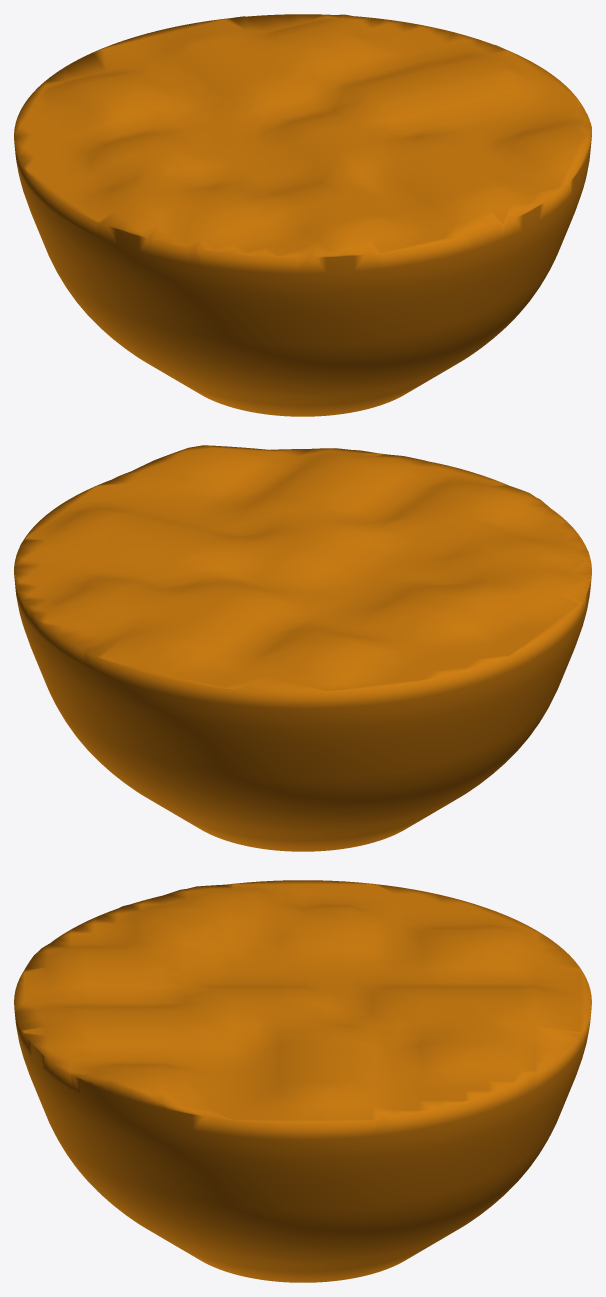
The model's file is Vulling-ei.obj.
3 renders of one model, top to bottom at view 1: azimuth 30°, elevation 25°; view 2: azimuth 150°, elevation 25°; view 3: azimuth 270°, elevation 25°, orthographic.
Visible parts, largest first — view 1: vulling_Material.002; view 2: vulling_Material.002; view 3: vulling_Material.002.
Boxes of the visible parts, <box> form: vulling_Material.002: <box>14,14,591,416</box>; vulling_Material.002: <box>14,445,591,851</box>; vulling_Material.002: <box>14,880,591,1282</box>.
Size of the model in its own units: 18.68 by 8.51 by 18.68.
